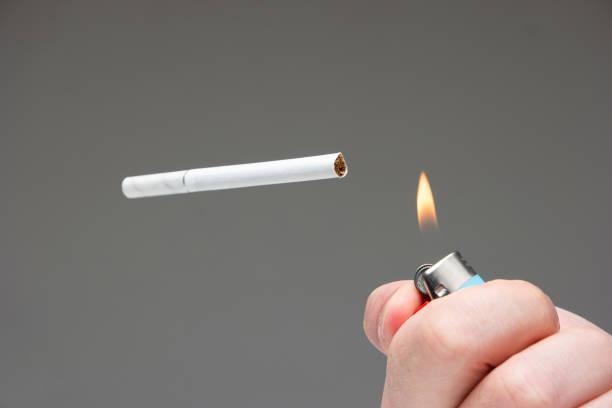Fire: (412, 167, 444, 243)
